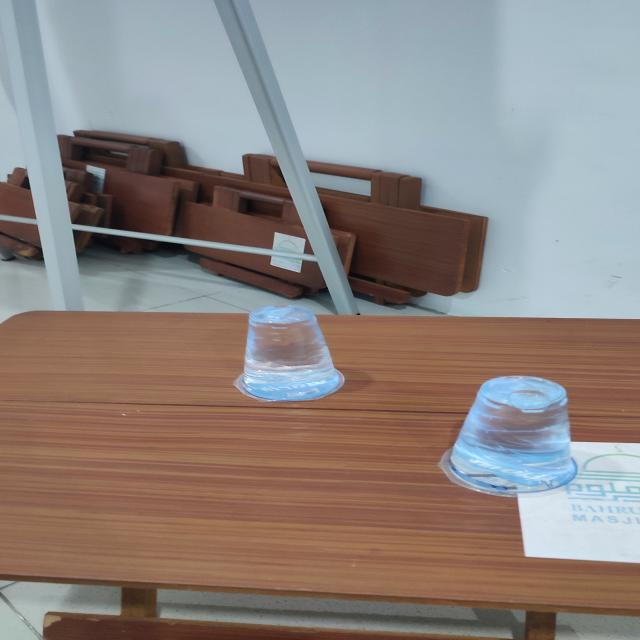air gelas: (435, 369, 590, 486), (224, 302, 347, 403)
